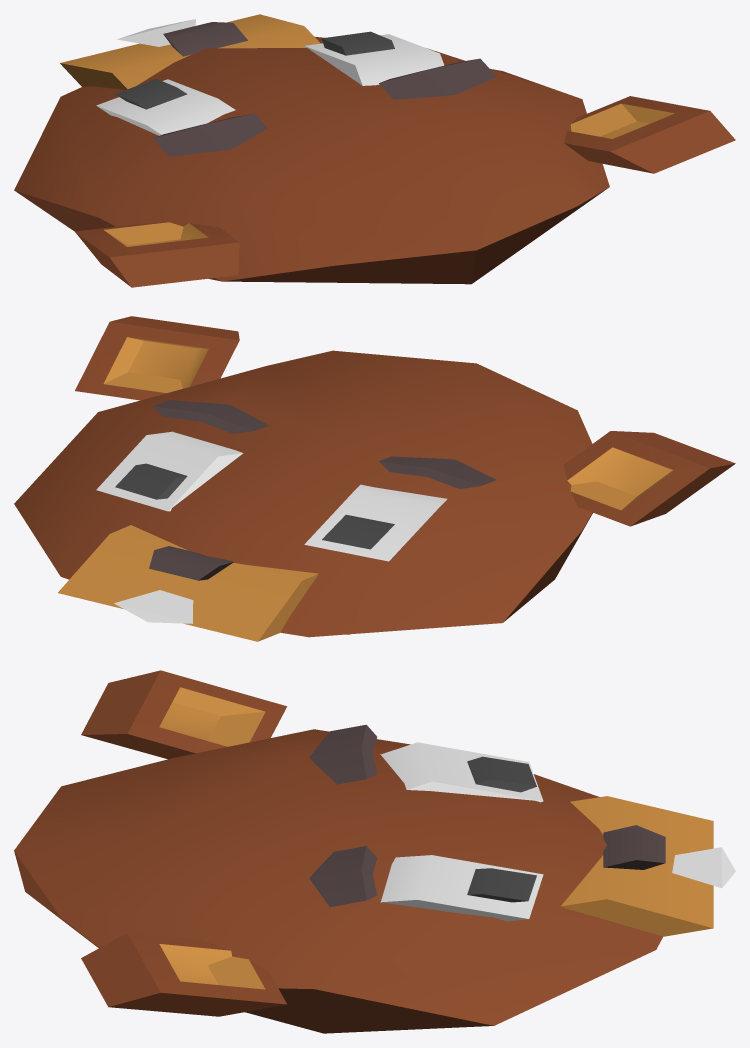
The model's file is Bober_Head_Fix.fbx.
The picture shows the model from 3 angles, top to bottom: view 1: azimuth 30°, elevation 25°; view 2: azimuth 150°, elevation 25°; view 3: azimuth 270°, elevation 25°; orthographic projection. The views are drawn at different scales.
Parts seen in each view (by area): view 1: Bober_Head; view 2: Bober_Head; view 3: Bober_Head.
Part boxes in pixels (x1,y1,x2,y2): Bober_Head: (14,14,735,287); Bober_Head: (14,316,735,641); Bober_Head: (14,670,735,1033).
Bounding box in the file's own units: 74.61 × 14.44 × 70.2.
